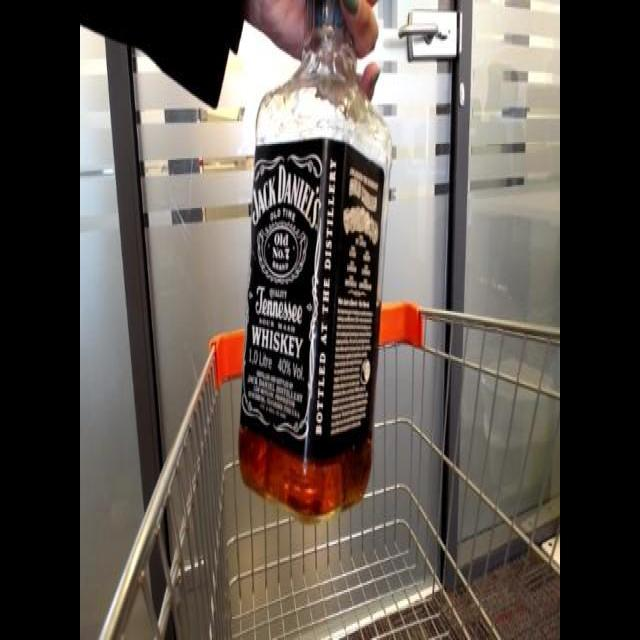Jack Daniels: (215, 0, 398, 537)
